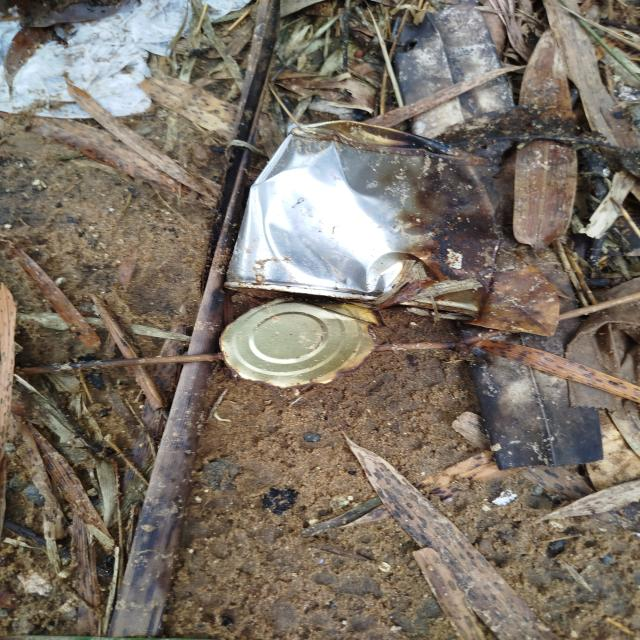metal: (209, 107, 521, 398)
